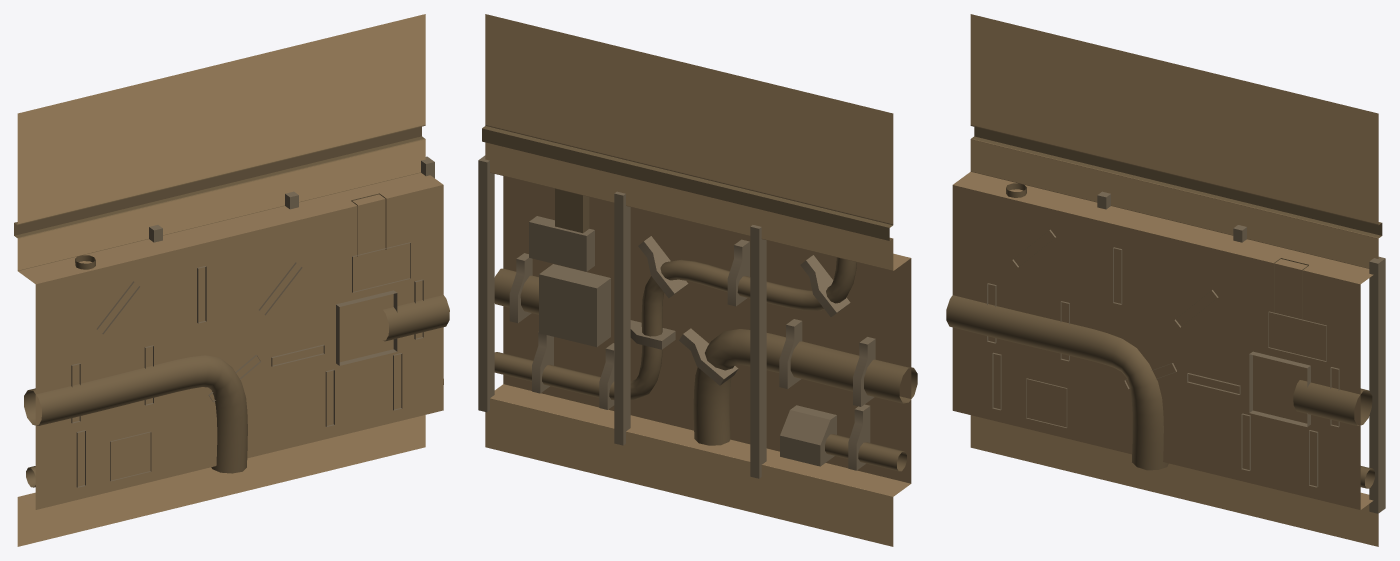
The model's file is Wall.fbx.
3 views of the same model, side by side, from view 1: azimuth 30°, elevation 25°; view 2: azimuth 150°, elevation 25°; view 3: azimuth 330°, elevation 25° (orthographic).
Visible parts, largest first — view 1: Wall; view 2: Wall; view 3: Wall.
Part boxes in pixels (x1=…): Wall: x1=14, y1=14, x2=449, y2=546; Wall: x1=478, y1=14, x2=917, y2=546; Wall: x1=946, y1=14, x2=1385, y2=546.
Bounding box in the file's own units: 3.96 × 3.97 × 0.464.
